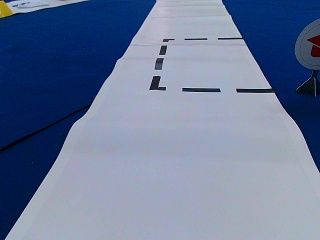school: (295, 18, 319, 68)
